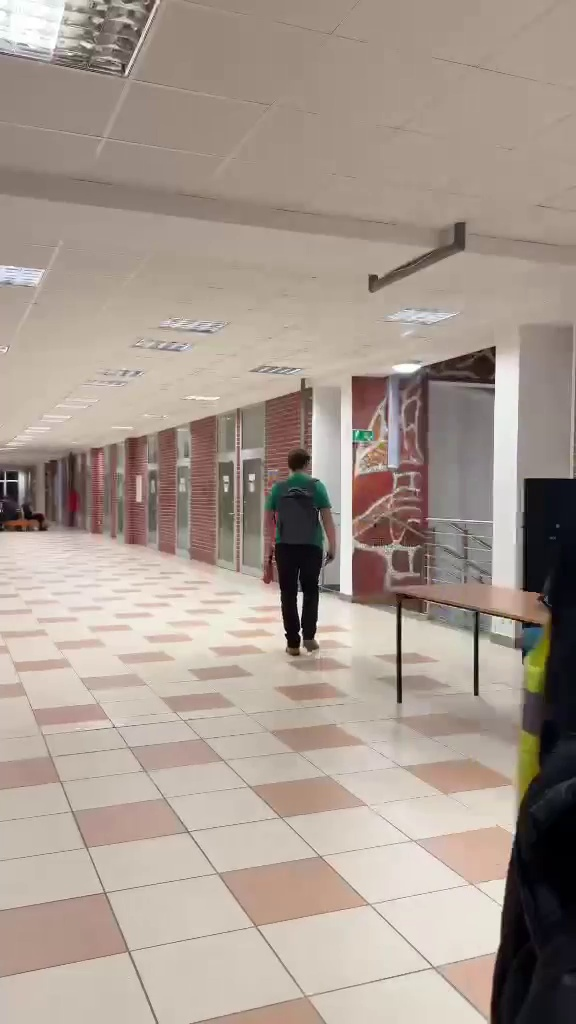no vest: (255, 437, 339, 657)
